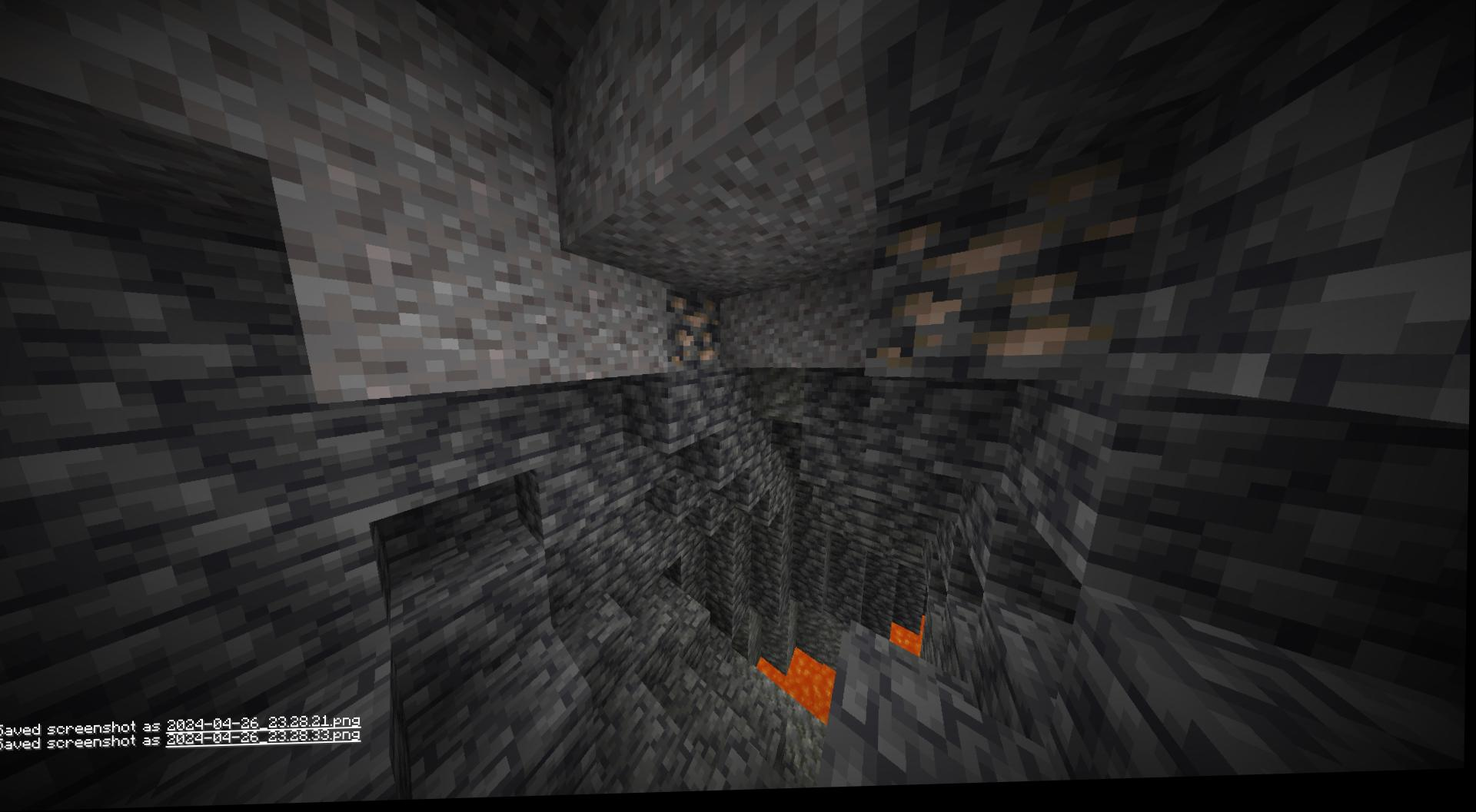iron ore: (875, 205, 1124, 387), (665, 290, 725, 374)
